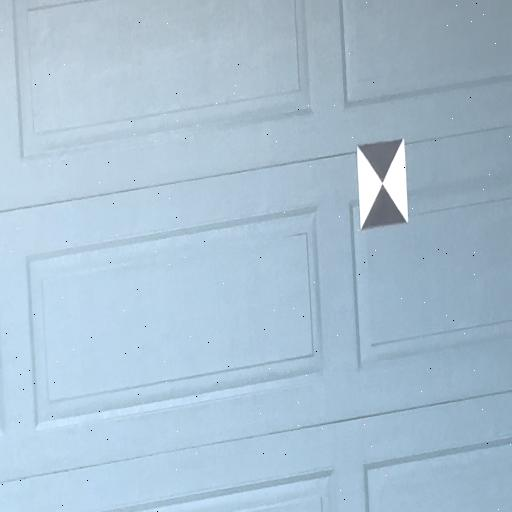target: (359, 139, 409, 228)
